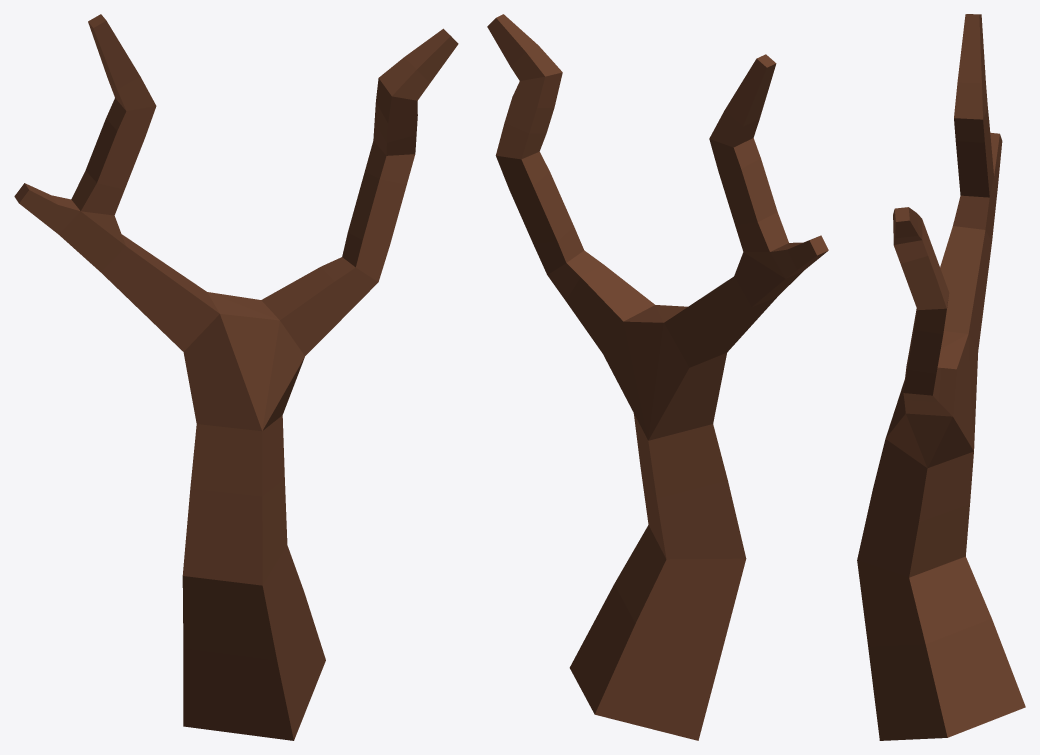
File: tree001.fbx
3 renders of one model, left to right at view 1: azimuth 30°, elevation 25°; view 2: azimuth 150°, elevation 25°; view 3: azimuth 270°, elevation 25°, orthographic. The views are drawn at different scales.
Visible parts, largest first — view 1: Cube.004; view 2: Cube.004; view 3: Cube.004.
Boxes of the visible parts, left/top/right/bottom form: Cube.004: left=14, top=14, right=458, bottom=740; Cube.004: left=487, top=14, right=828, bottom=740; Cube.004: left=857, top=14, right=1025, bottom=740.
Bounding box in the file's own units: 295 × 520 × 120.
